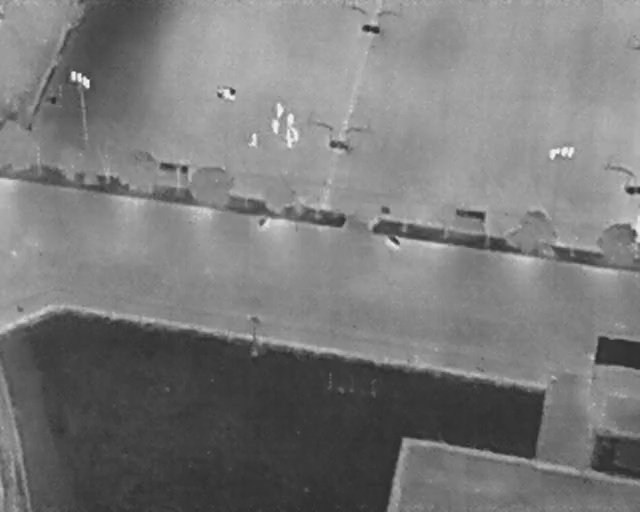Person: (274, 102, 284, 120), (285, 129, 294, 149), (271, 117, 280, 134), (248, 133, 258, 148), (291, 127, 300, 143), (286, 113, 294, 130)
